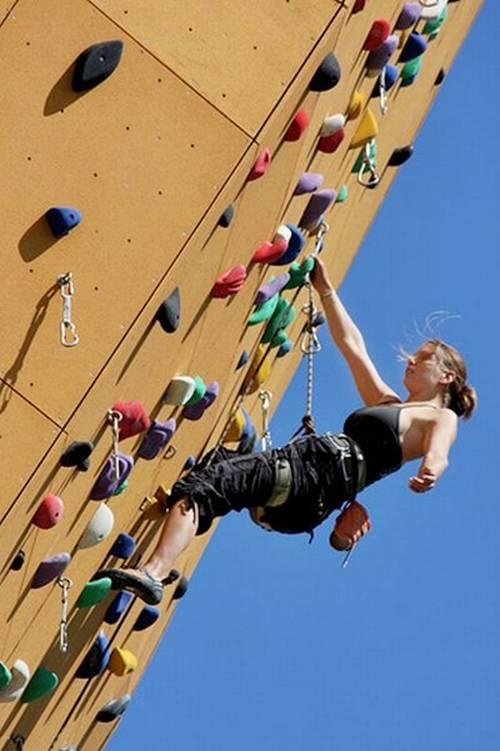person: (97, 252, 476, 608)
